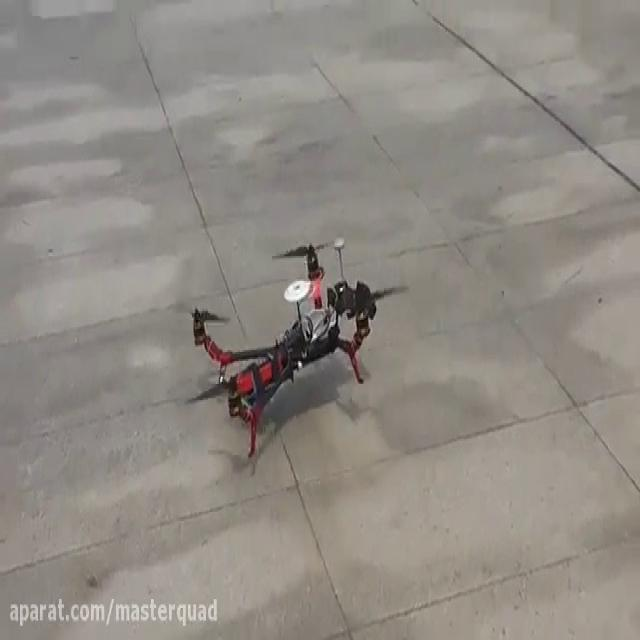drone: (154, 228, 415, 464)
